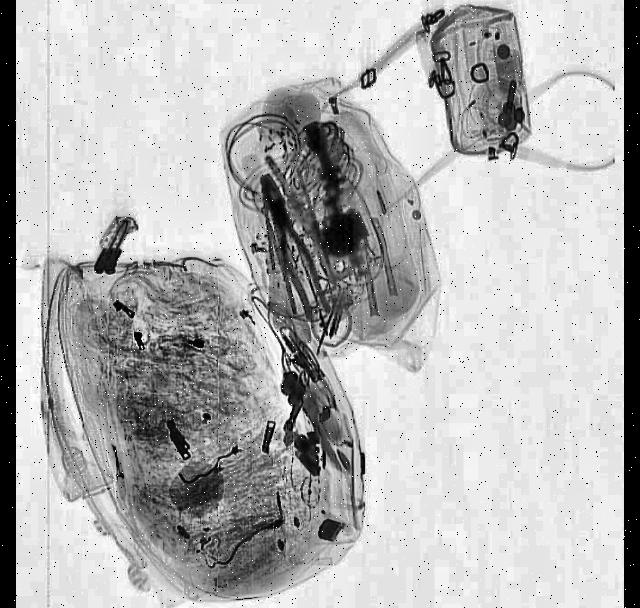Pliers: (250, 167, 332, 325)
